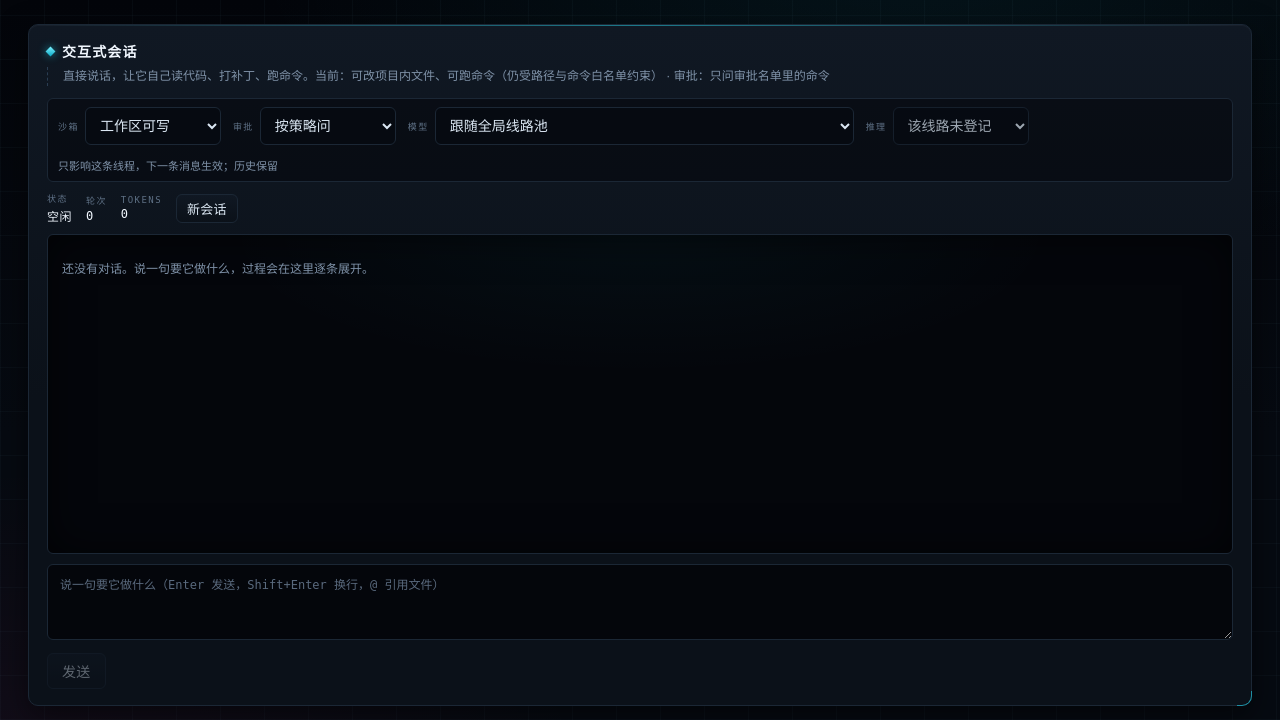
Scenario: 会话页（ChatPage） › Esc 关闭文件补全
In the text box named "会话输入": (640, 602) [47,564,1233,640], type "@src"
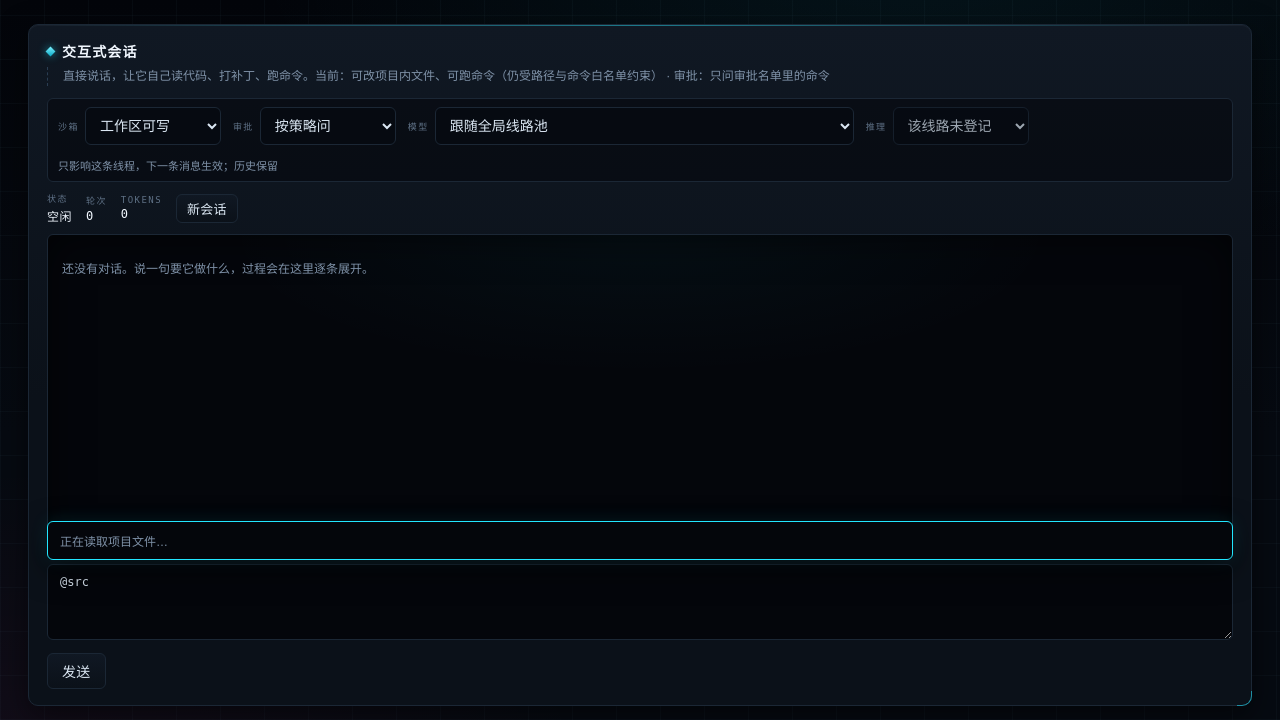
Result: the list is shown at [47,521,1233,560]
Press Escape in the text box named "会话输入", box [47,564,1233,640]
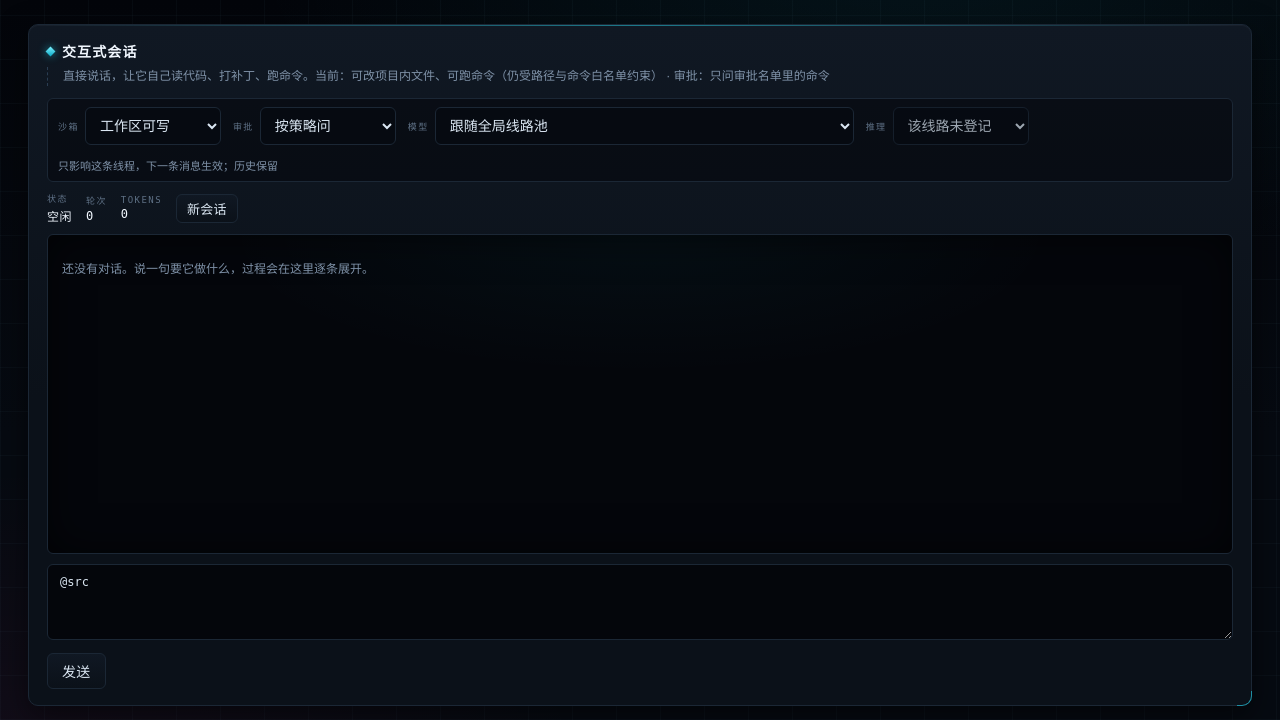
Result: the list is gone
